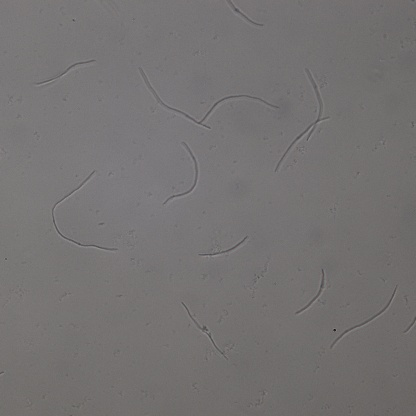Sensitive: (51, 168, 118, 255), (139, 69, 211, 130), (332, 285, 398, 347), (276, 116, 329, 169), (182, 302, 229, 361), (200, 91, 279, 124), (162, 141, 199, 204), (37, 58, 96, 84), (305, 67, 325, 142), (295, 269, 326, 314), (198, 235, 247, 260), (228, 1, 264, 28)
